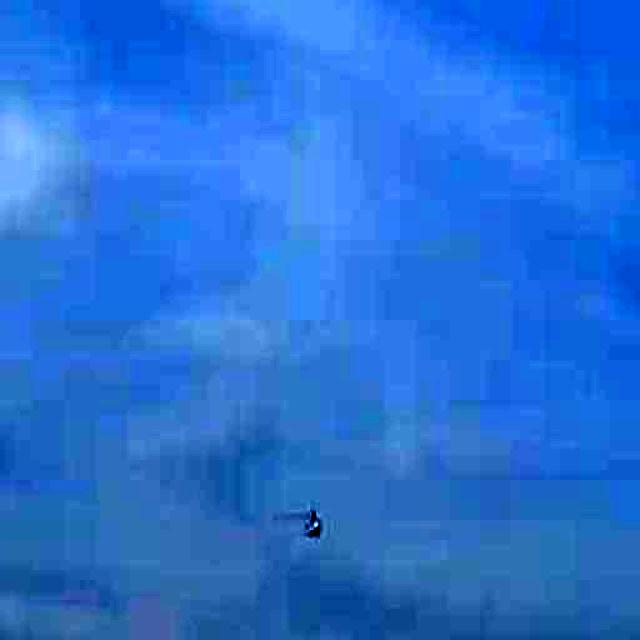drone: (292, 494, 335, 550)
